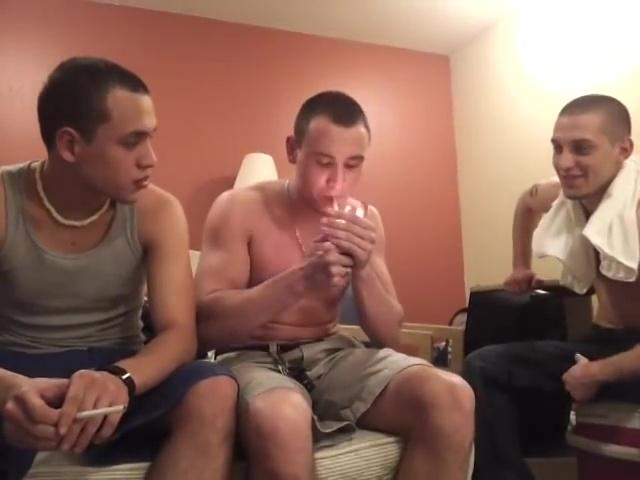cigarette: (72, 404, 135, 426), (331, 196, 346, 214)
